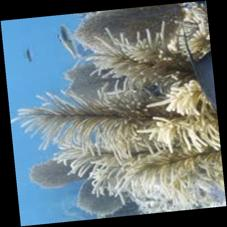bleached_corals: (5, 2, 227, 225)
